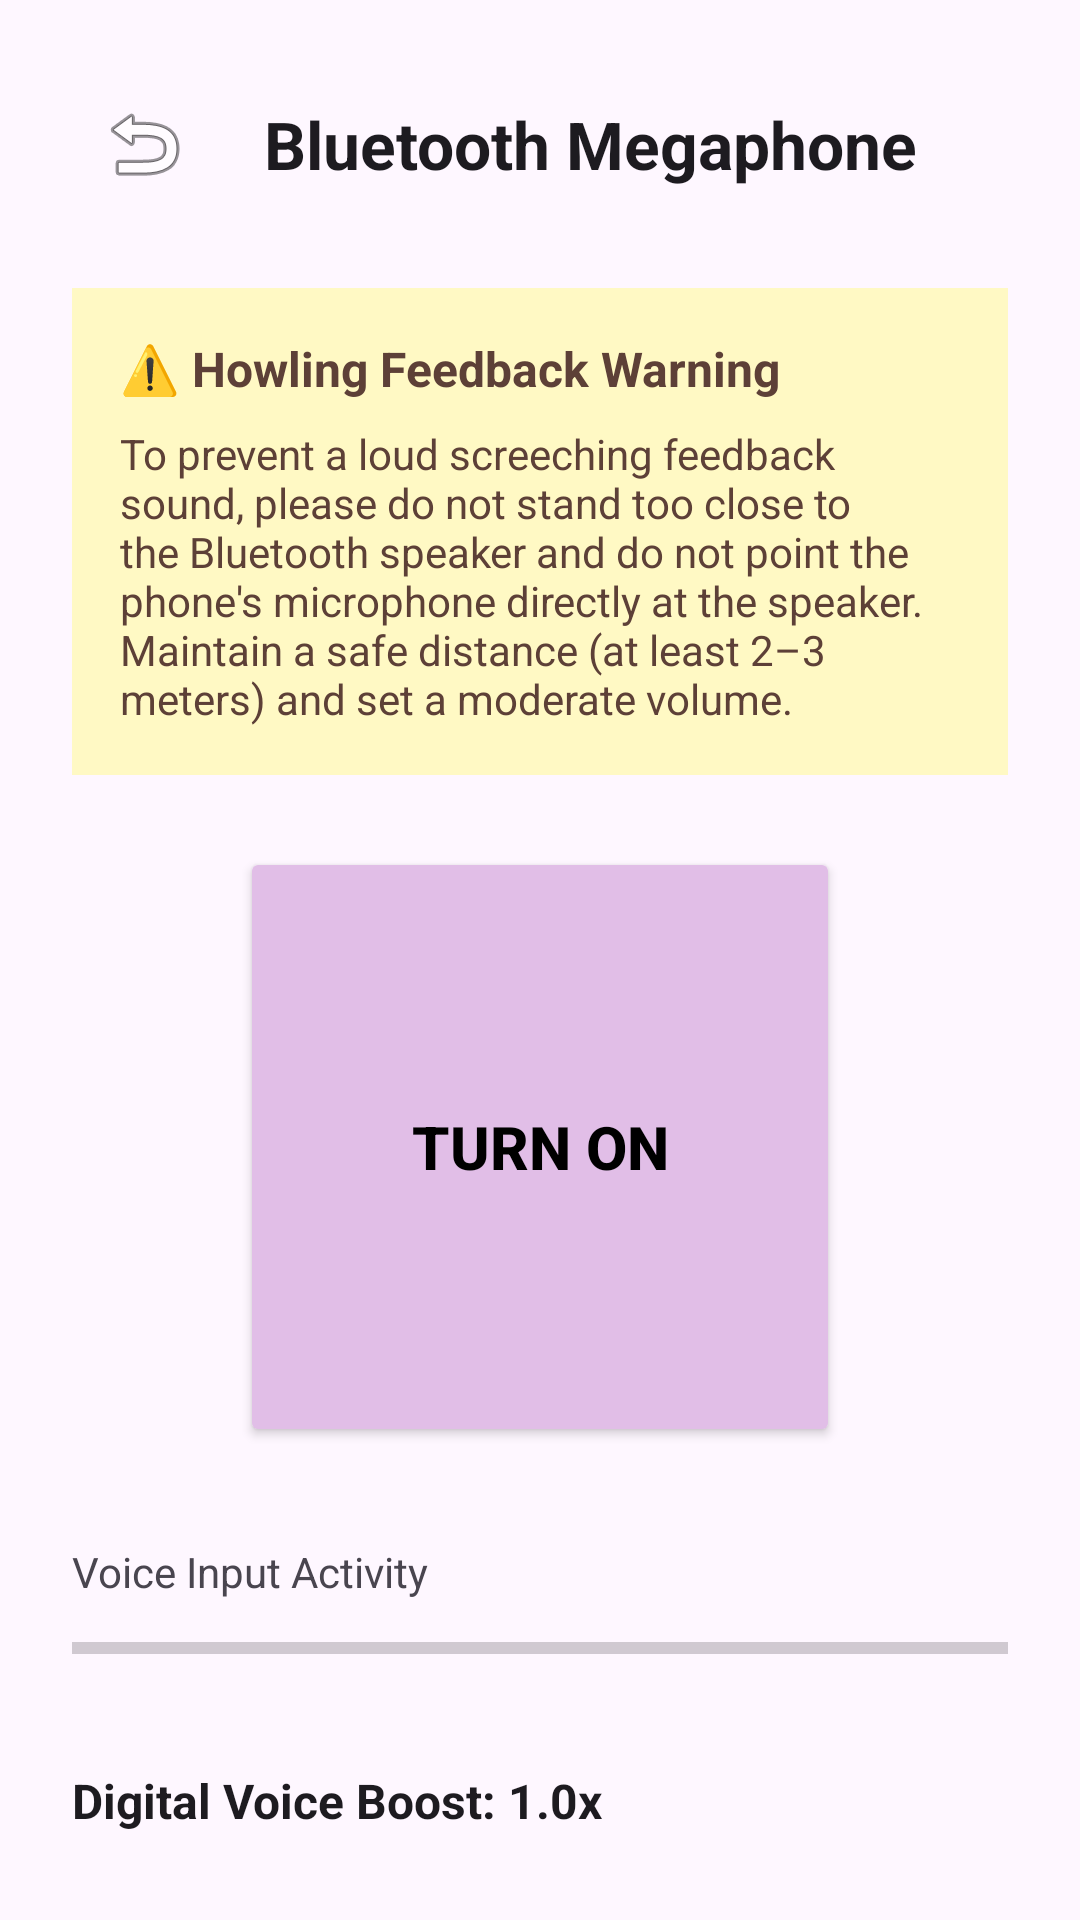

Icon click points for this 1080 x 1920 phone screenshot, format [x,y]:
Go Back: [145,144]
